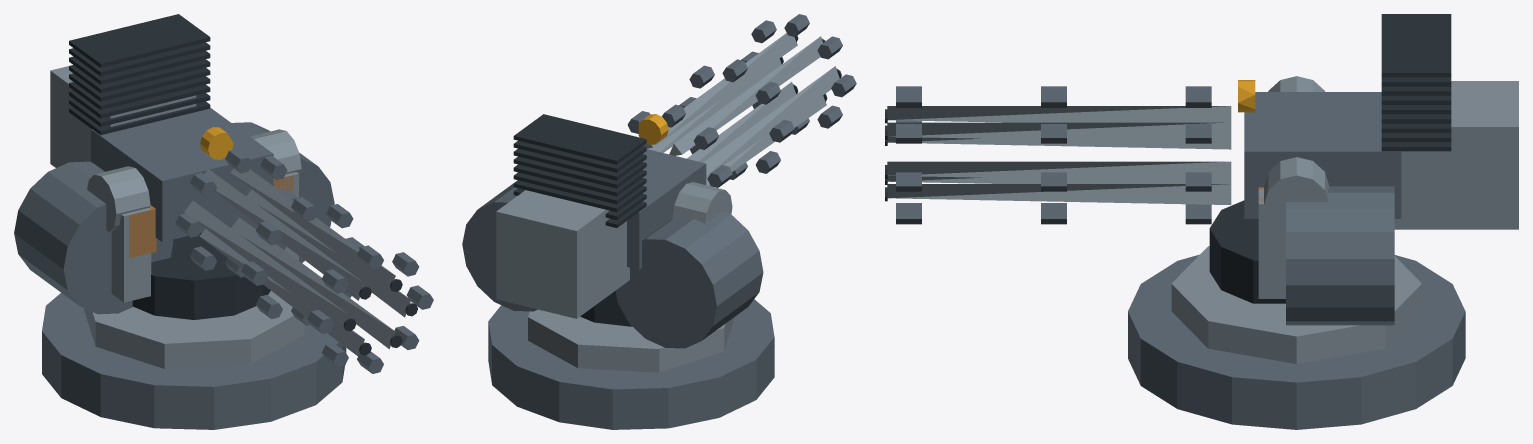
File: rotor_t3_d0.glb
The picture shows the model from 3 angles, left to right: view 1: azimuth 30°, elevation 25°; view 2: azimuth 150°, elevation 25°; view 3: azimuth 270°, elevation 25°; orthographic projection. The views are drawn at different scales.
Visible parts, largest first — view 1: ROOT_ARMOR_GEOMETRY; view 2: ROOT_ARMOR_GEOMETRY; view 3: ROOT_ARMOR_GEOMETRY.
Boxes of the visible parts, x1=… form: ROOT_ARMOR_GEOMETRY: x1=14, y1=14, x2=433, y2=429; ROOT_ARMOR_GEOMETRY: x1=462, y1=14, x2=856, y2=429; ROOT_ARMOR_GEOMETRY: x1=885, y1=14, x2=1518, y2=429.
Bounding box in the file's own units: 1.58 × 1.6 × 2.91.
